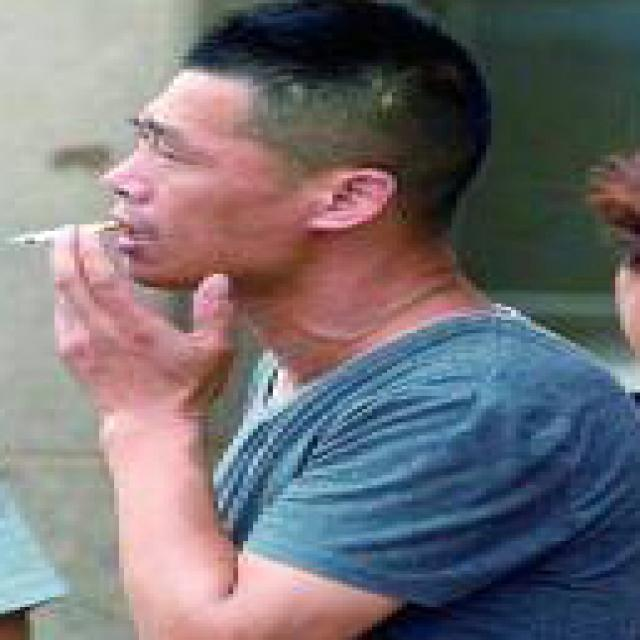smoking: (15, 217, 115, 251)
